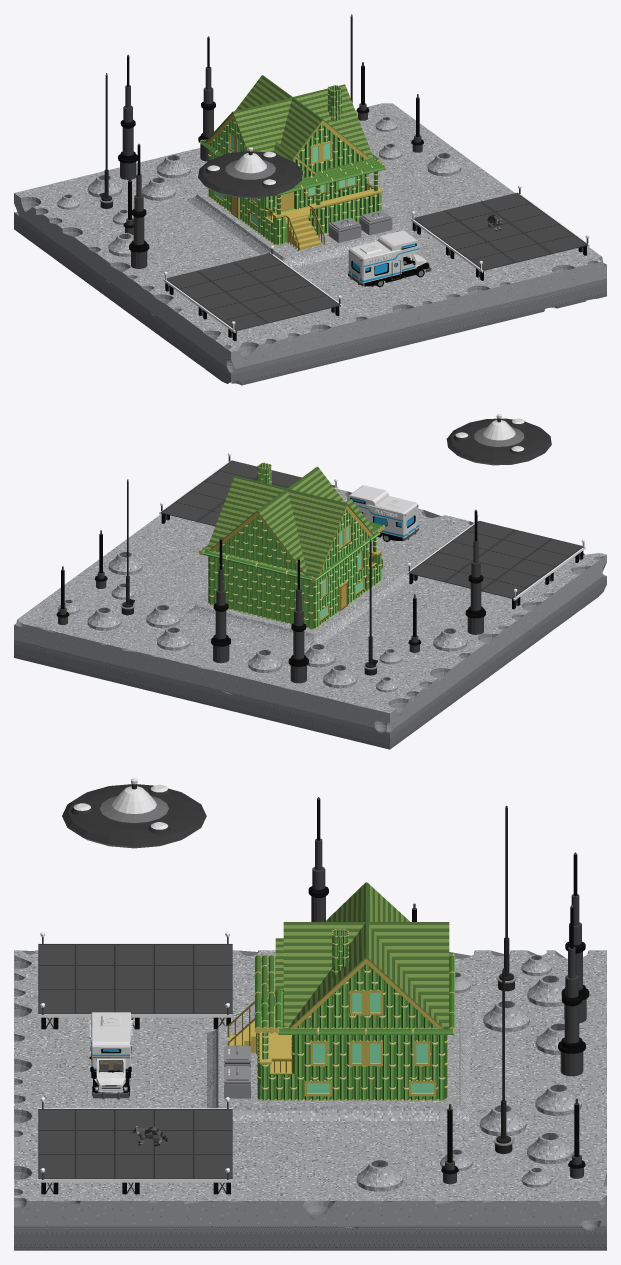
3 views of the same model, one above another, from view 1: azimuth 30°, elevation 25°; view 2: azimuth 150°, elevation 25°; view 3: azimuth 270°, elevation 25° (orthographic). The views are drawn at different scales.
Parts seen in each view (by area): view 1: Cube.027, Cube.1327, Cube.025, Cube.026, OBJRANDOM_UFO, Cube.028, VEHICLES_CAMPER, Cylinder.021, Cylinder.020, Cylinder.017, Cube.029, Cube.030 (+5 smaller); view 2: Cube.027, Cube.1327, Cube.025, OBJRANDOM_UFO, Cube.028, Cube.026, VEHICLES_CAMPER, Cylinder.021, Cylinder.017, Cylinder.020, Cylinder.025, Cylinder.028 (+8 smaller); view 3: Cube.027, Cube.1327, Cube.025, Cube.026, Cube.028, OBJRANDOM_UFO, VEHICLES_CAMPER, Cylinder.017, Cylinder.020, Cylinder.021, Cylinder.033, Cylinder.031 (+10 smaller).
Boxes of the visible parts, x1,y1,x2,y2 form: Cube.027: (14,103,606,385); Cube.1327: (200,75,385,250); Cube.025: (163,245,342,341); Cube.026: (411,185,589,280); OBJRANDOM_UFO: (198,147,302,198); Cube.028: (187,191,414,267); VEHICLES_CAMPER: (348,230,431,287); Cylinder.021: (129,144,149,268); Cylinder.020: (118,54,137,179); Cylinder.017: (198,36,215,161); Cube.029: (328,218,361,242); Cube.030: (359,210,392,235); Cube.027: (14,489,606,749); Cube.1327: (198,462,384,629); Cube.025: (407,513,585,609); OBJRANDOM_UFO: (446,414,551,465); Cube.028: (185,565,409,645); Cube.026: (159,453,338,526); VEHICLES_CAMPER: (347,485,418,541); Cylinder.021: (465,509,485,634); Cylinder.017: (211,538,230,663); Cylinder.020: (288,558,308,683); Cylinder.025: (433,627,467,651); Cylinder.028: (323,664,357,688); Cube.027: (14,950,606,1250); Cube.1327: (227,882,455,1101); Cube.025: (38,932,232,1029); Cube.026: (38,1097,232,1194); Cube.028: (207,1025,470,1120); OBJRANDOM_UFO: (62,778,206,848); VEHICLES_CAMPER: (89,1012,132,1099); Cylinder.017: (558,905,585,1076); Cylinder.020: (561,852,589,1023); Cylinder.021: (308,797,328,921); Cylinder.033: (356,1159,403,1191); Cylinder.031: (527,1132,573,1164).
Bounding box in the file's own units: 4000 × 2039 × 4000.
35 materials, 5 textured.
